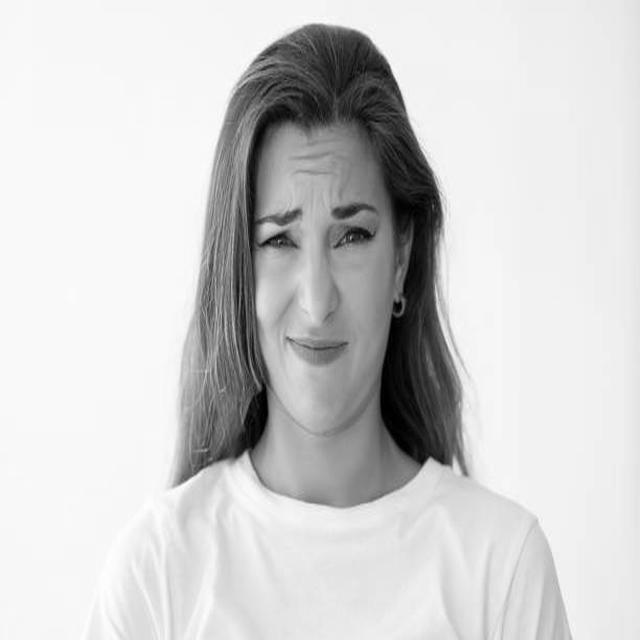Disgust: (247, 121, 398, 435)
